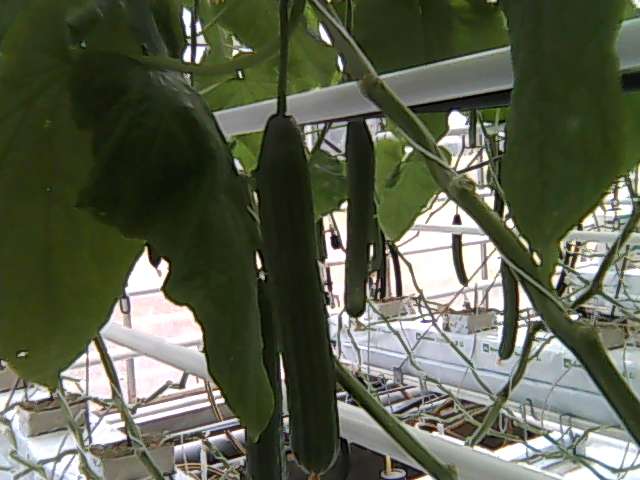concombre: (254, 103, 342, 480), (244, 276, 286, 480)
